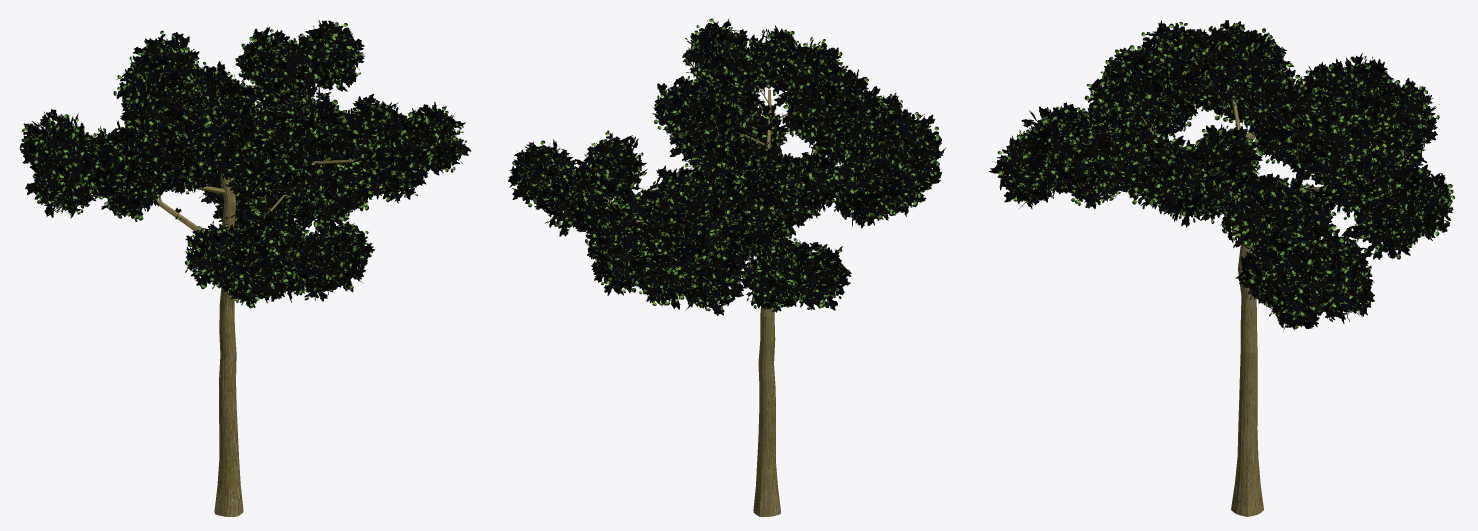
File: pine_open_v01.fbx
3 views of the same model, side by side, from view 1: azimuth 30°, elevation 25°; view 2: azimuth 150°, elevation 25°; view 3: azimuth 270°, elevation 25° (orthographic). The views are drawn at different scales.
Visible parts, largest first — view 1: pine_open_v01; view 2: pine_open_v01; view 3: pine_open_v01.
Part boxes in pixels (x1,y1,x2,y2): pine_open_v01: (19,20,471,516); pine_open_v01: (508,18,945,516); pine_open_v01: (988,20,1454,516).
Size of the model in its own units: 1315 by 1513 by 1637.
2 materials, 2 textured.
